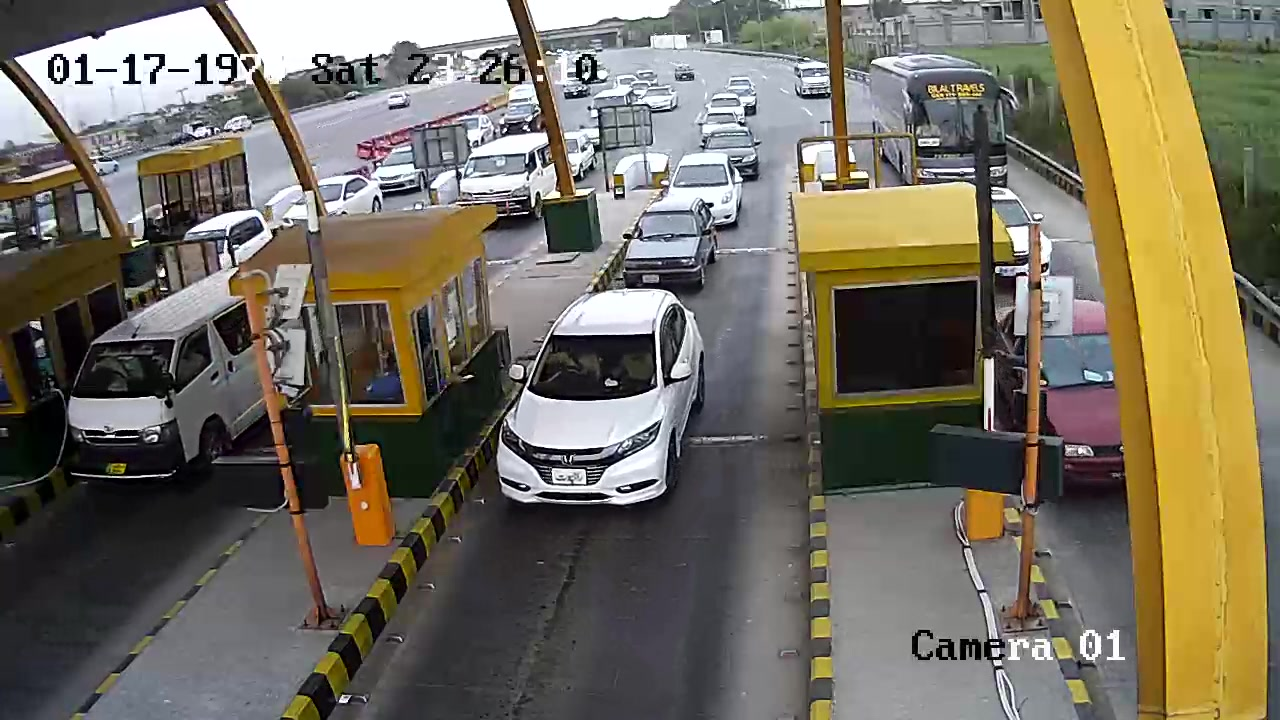F1: (492, 290, 722, 514)
